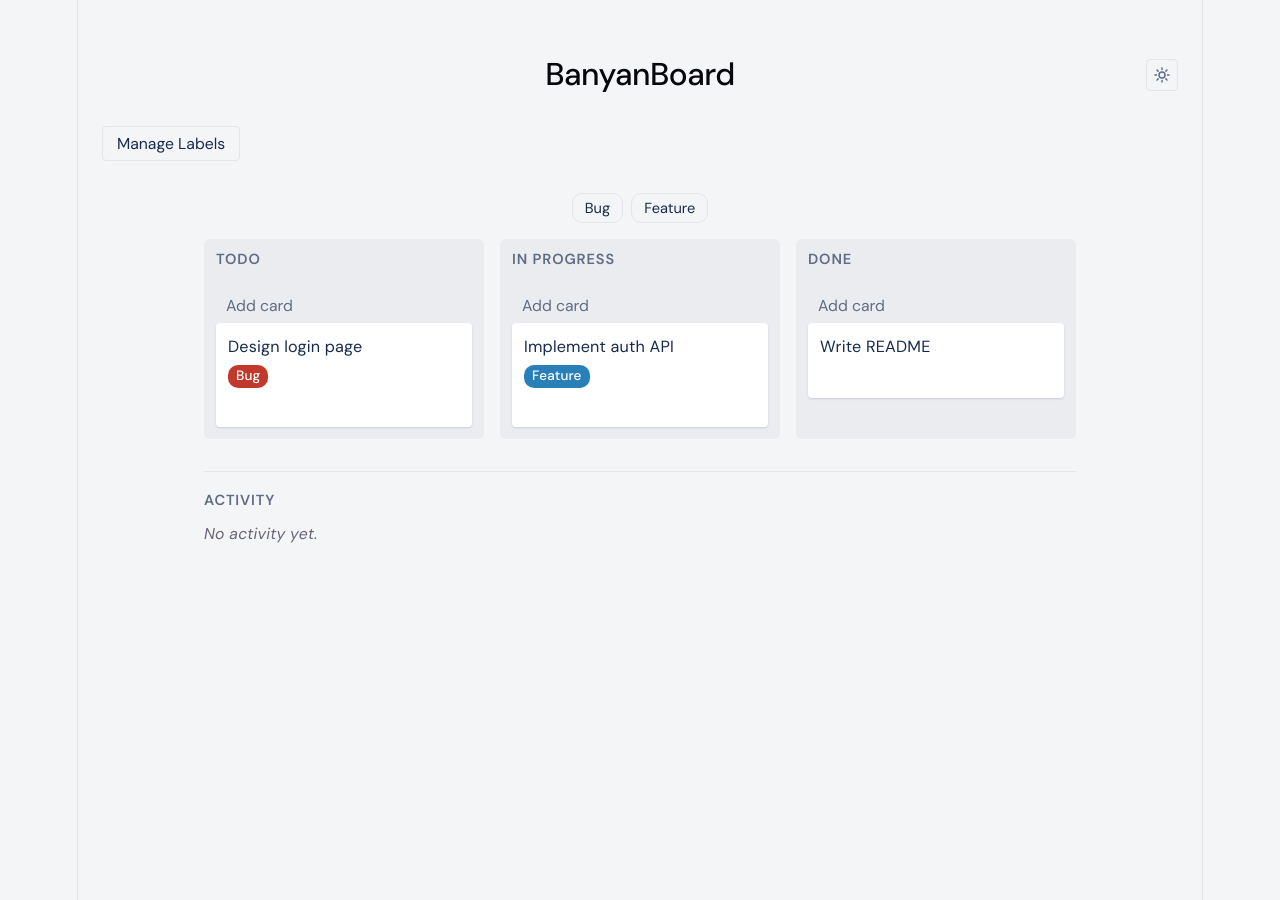
Scenario: Board label filtering › shows cards matching ANY of the selected labels (OR logic)
Expected: the text "Design login page" is shown, left=228, top=336, right=362, bottom=357
Select Bug filter → only card-1 visible
Click the button "Bug".
click(597, 208)  # box left=572, top=193, right=623, bottom=223
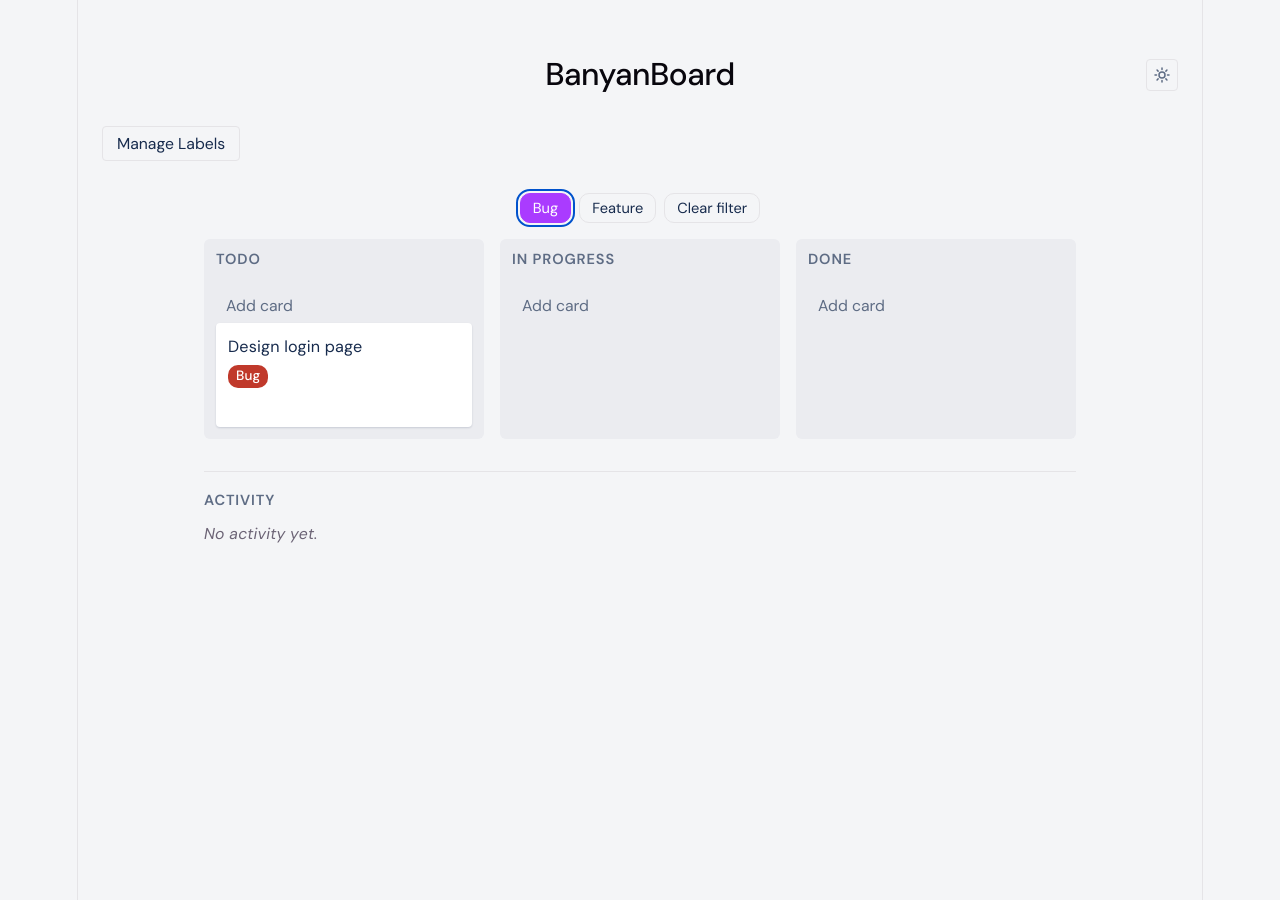
Expected: the text "Design login page" is shown, left=228, top=336, right=362, bottom=357
Result: the text "Implement auth API" is gone
Also select Feature → card-1 and card-2 visible, card-3 still hidden
Click the button "Feature".
click(618, 208)  # box left=579, top=193, right=656, bottom=223
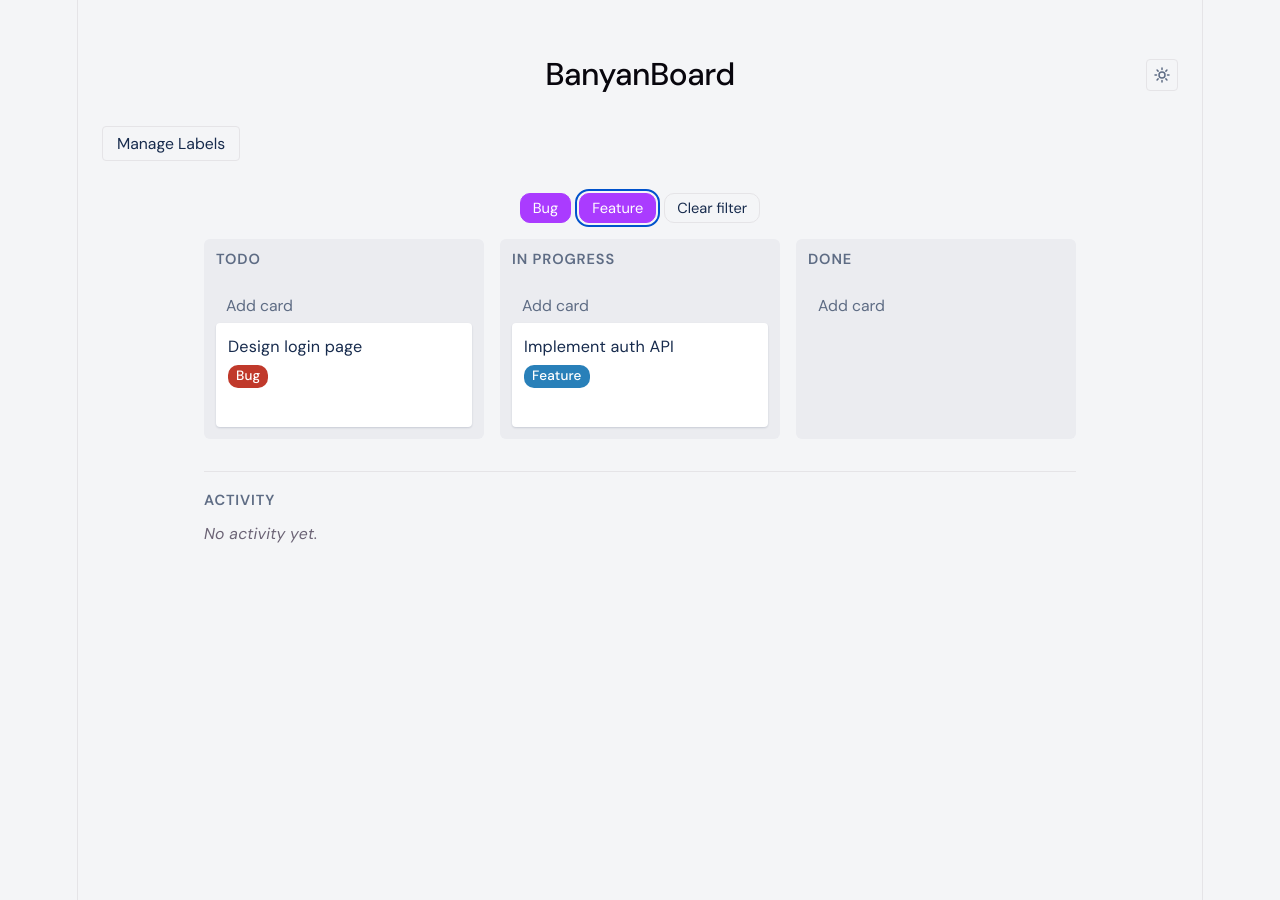
Expected: the text "Design login page" is shown, left=228, top=336, right=362, bottom=357
Result: the text "Implement auth API" is shown at left=524, top=336, right=674, bottom=357
